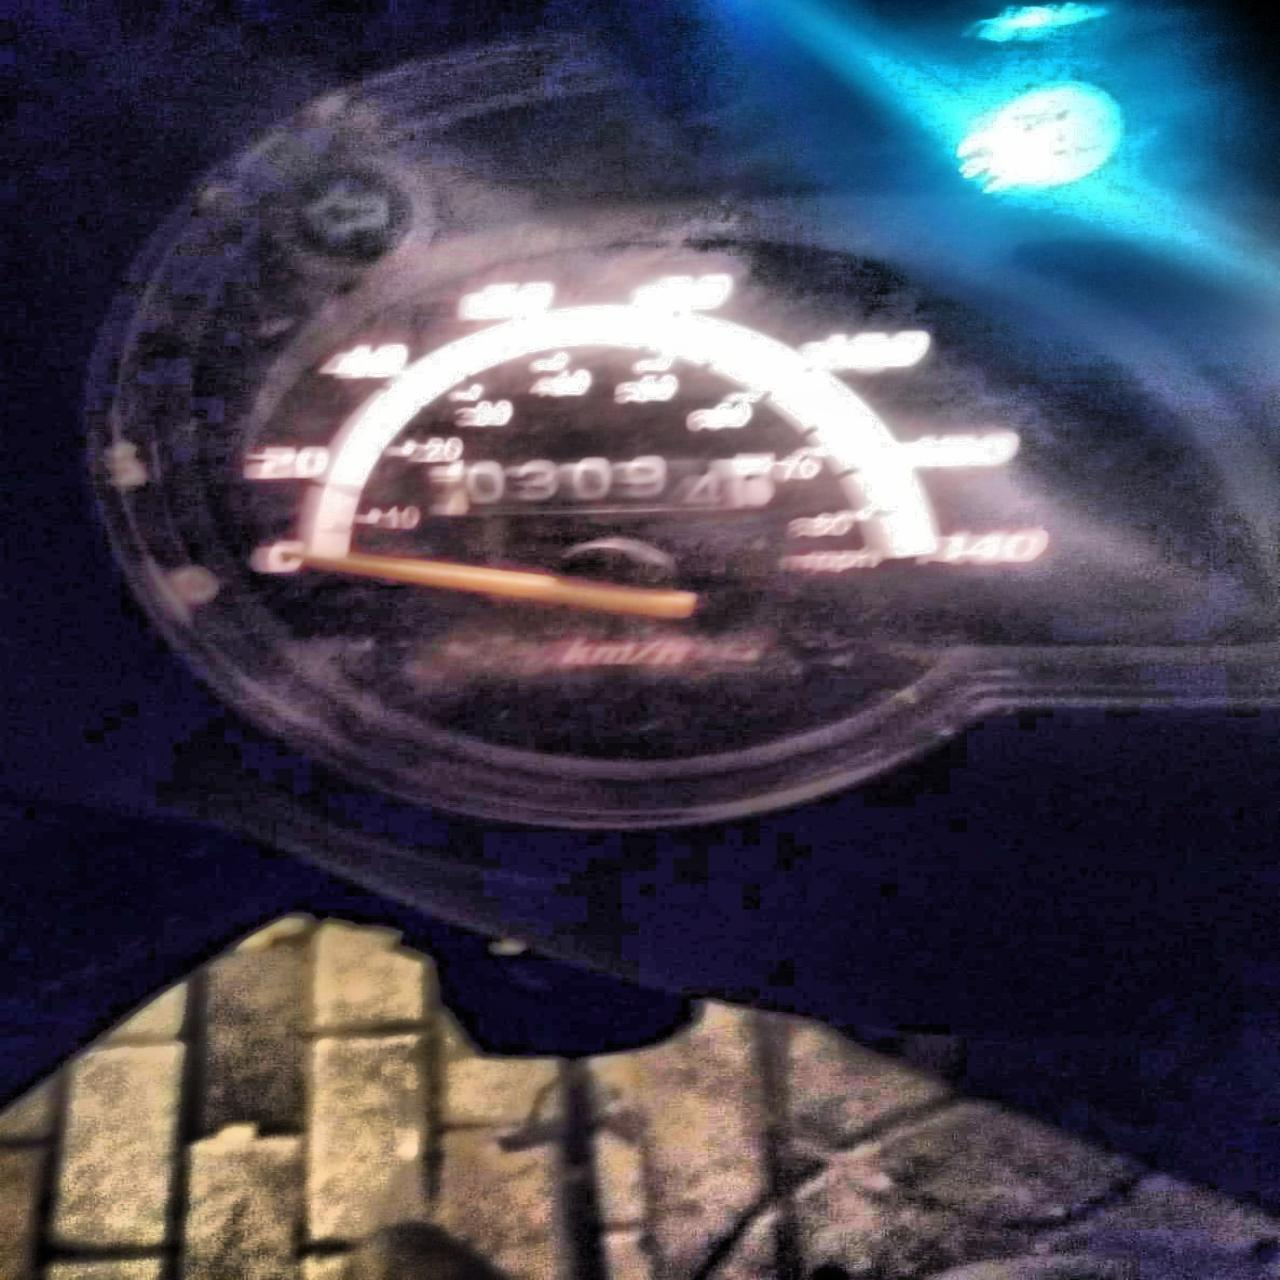0: (568, 455, 614, 499), (465, 461, 508, 503), (736, 470, 775, 511)
3: (519, 461, 559, 504)
4: (682, 468, 728, 510)
9: (622, 456, 672, 501)
odometer: (418, 452, 777, 520)
